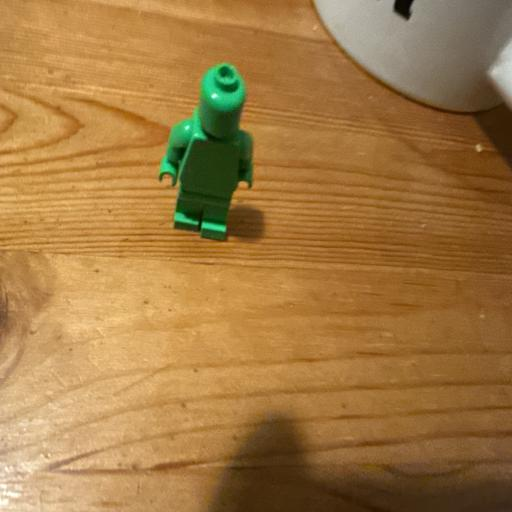Minifig: (159, 63, 253, 240)
